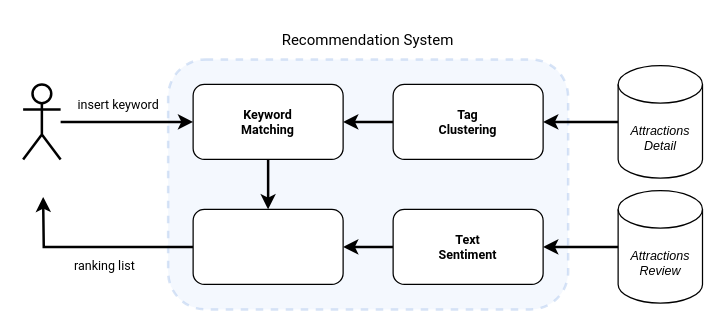
Image size: 724x331. Some labels were removed from this diagram. Each missing label, with the box of its shape:
Ranking: (192, 208, 343, 284)
User: (21, 82, 61, 160)
